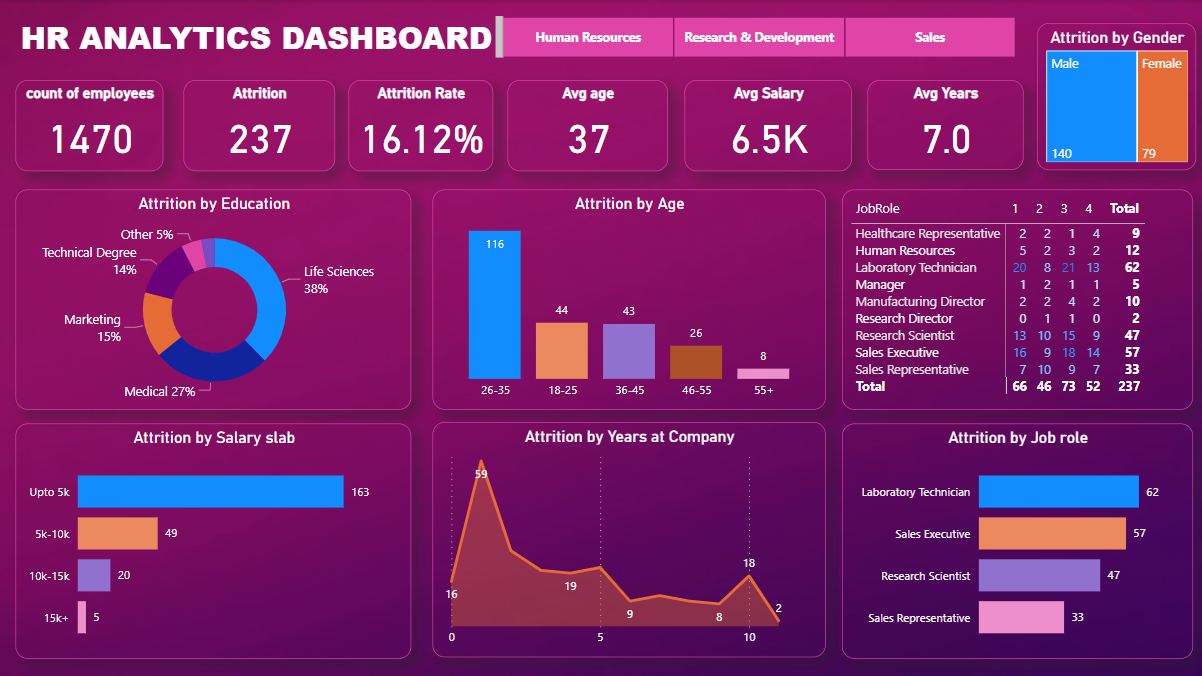

The dashboard page shown, as its layout file describes it:
{"tool":"powerbi","page":{"name":"Page 1","canvas":[1280,720],"ordinal":0},"visuals":[{"type":"card","title":"count of employees","fields":{"Values":["CountNonNull(HR_Analytics.EmpID)"]},"box":[20.8,85,156.9,96.4],"z":0},{"type":"card","title":"Attrition","fields":{"Values":["Sum(HR_Analytics.AttritionCount)"]},"box":[198.4,85,160.6,96.4],"z":1000},{"type":"card","title":"Attrition Rate","fields":{"Values":["HR_Analytics.AttririonRate"]},"box":[374.2,85,153.1,96.4],"z":2000},{"type":"card","title":"Avg age","fields":{"Values":["Avg(HR_Analytics.Age)"]},"box":[542.4,85,170.1,96.4],"z":3000},{"type":"card","title":"Avg Salary","fields":{"Values":["Avg(HR_Analytics.MonthlyIncome)"]},"box":[729.5,85,177.6,96.4],"z":4000},{"type":"card","title":"Avg Years","fields":{"Values":["Avg(HR_Analytics.YearsAtCompany)"]},"box":[923.4,85.8,165.3,95.4],"z":5000},{"type":"donutChart","title":"Attrition by Education","fields":{"Category":["HR_Analytics.EducationField"],"Y":["Sum(HR_Analytics.AttritionCount)"]},"box":[20.7,201.9,419.6,233.6],"z":6000},{"type":"columnChart","title":"Attrition by Age","fields":{"Category":["HR_Analytics.AgeGroup"],"Y":["Sum(HR_Analytics.AttritionCount)"]},"box":[462.5,201.9,416.4,233.6],"z":7000},{"type":"pivotTable","fields":{"Rows":["HR_Analytics.JobRole"],"Columns":["HR_Analytics.JobSatisfaction"],"Values":["Sum(HR_Analytics.AttritionCount)"]},"box":[896.4,201.9,371.9,233.6],"z":8000},{"type":"barChart","title":"Attrition by Salary slab","fields":{"Category":["HR_Analytics.SalarySlab"],"Y":["Sum(HR_Analytics.AttritionCount)"]},"box":[20.7,449.8,419.6,249.5],"z":9000},{"type":"barChart","title":"Attrition by Job role","fields":{"Category":["HR_Analytics.JobRole"],"Y":["Sum(HR_Analytics.AttritionCount)"]},"box":[896.4,449.8,371.9,249.5],"z":10000},{"type":"areaChart","title":"Attrition by Years at Company","fields":{"Category":["HR_Analytics.YearsAtCompany"],"Y":["Sum(HR_Analytics.AttritionCount)"]},"box":[462.5,448.2,416.4,249.5],"z":11000},{"type":"treemap","title":"Attrition by Gender","fields":{"Group":["HR_Analytics.Gender"],"Values":["Sum(HR_Analytics.AttritionCount)"]},"box":[1103,25.4,168.5,155.8],"z":12000},{"type":"slicer","fields":{"Values":["HR_Analytics.Department"]},"box":[512.1,13.2,591.5,54.8],"z":13000},{"type":"textbox","box":[20.8,13.2,521.6,54.8],"z":14000}]}

Visuals, with their boxes in screenshot pixels (x1, y1, x2, y2), scaled from the page's 1280x720 canvas onto the 1202x676 screenshot:
"count of employees" card: l=20, t=80, r=167, b=170
"Attrition" card: l=186, t=80, r=337, b=170
"Attrition Rate" card: l=351, t=80, r=495, b=170
"Avg age" card: l=509, t=80, r=669, b=170
"Avg Salary" card: l=685, t=80, r=852, b=170
"Avg Years" card: l=867, t=81, r=1022, b=170
"Attrition by Education" donutChart: l=19, t=190, r=413, b=409
"Attrition by Age" columnChart: l=434, t=190, r=825, b=409
pivotTable - HR_Analytics.JobRole x HR_Analytics.JobSatisfaction: l=842, t=190, r=1191, b=409
"Attrition by Salary slab" barChart: l=19, t=422, r=413, b=657
"Attrition by Job role" barChart: l=842, t=422, r=1191, b=657
"Attrition by Years at Company" areaChart: l=434, t=421, r=825, b=655
"Attrition by Gender" treemap: l=1036, t=24, r=1194, b=170
slicer - HR_Analytics.Department: l=481, t=12, r=1036, b=64
textbox: l=20, t=12, r=509, b=64
